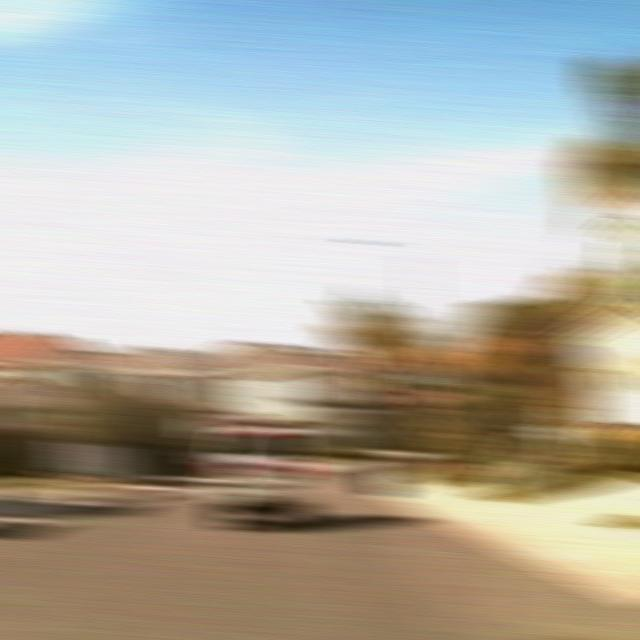stop: (406, 387, 443, 414)
